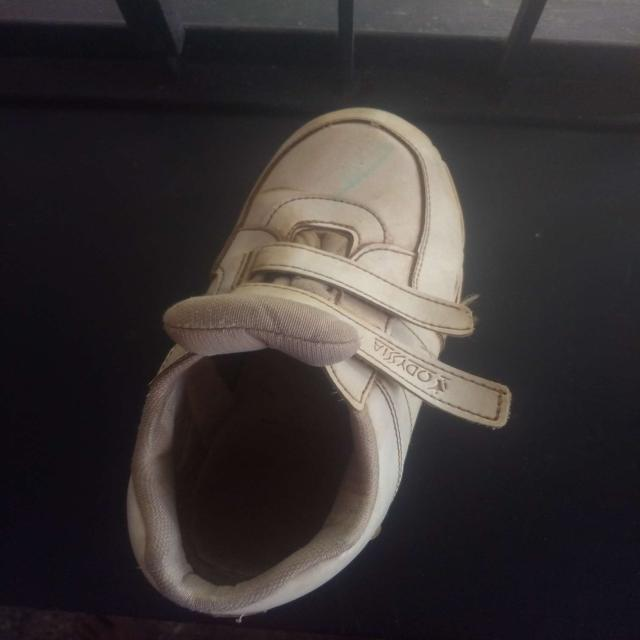shoes: (125, 106, 512, 620)
